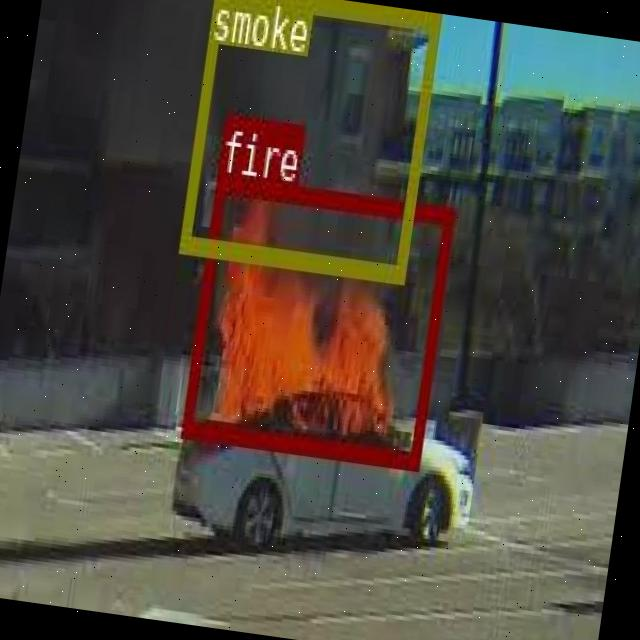fire: (180, 172, 454, 466)
smoke: (178, 0, 439, 281)
